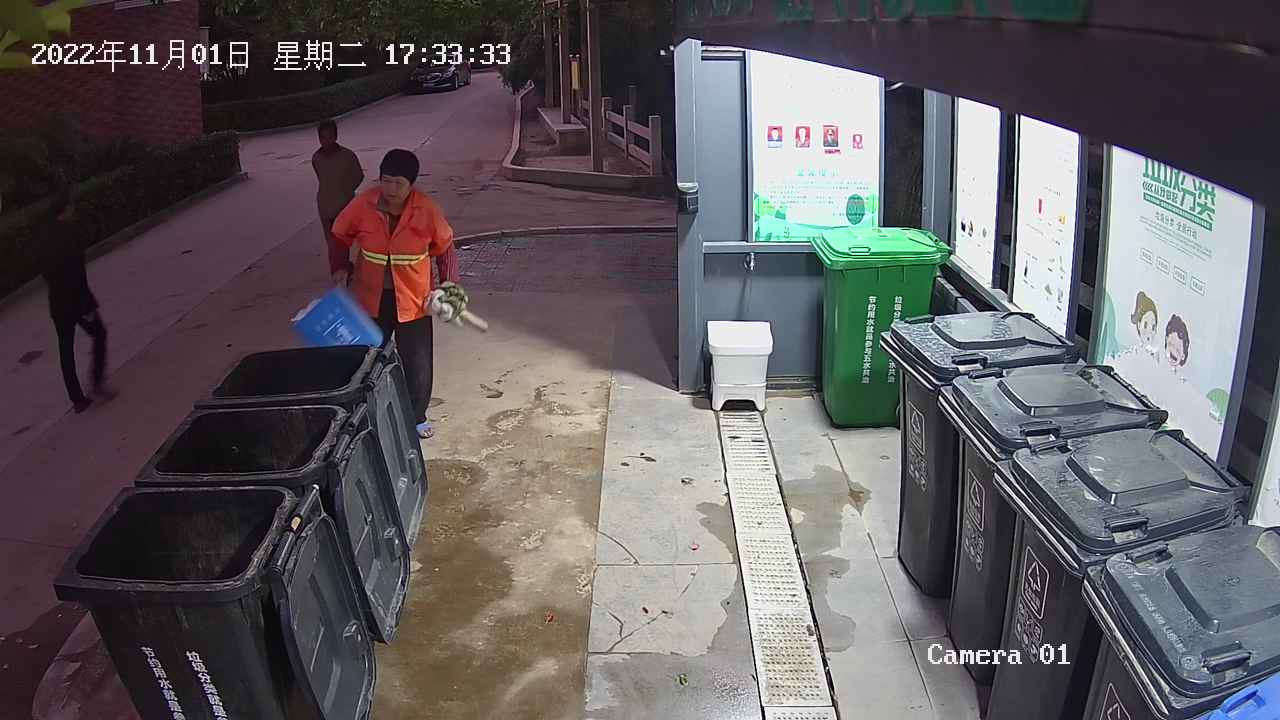worker: (326, 149, 462, 441)
youtong: (289, 281, 384, 353)
